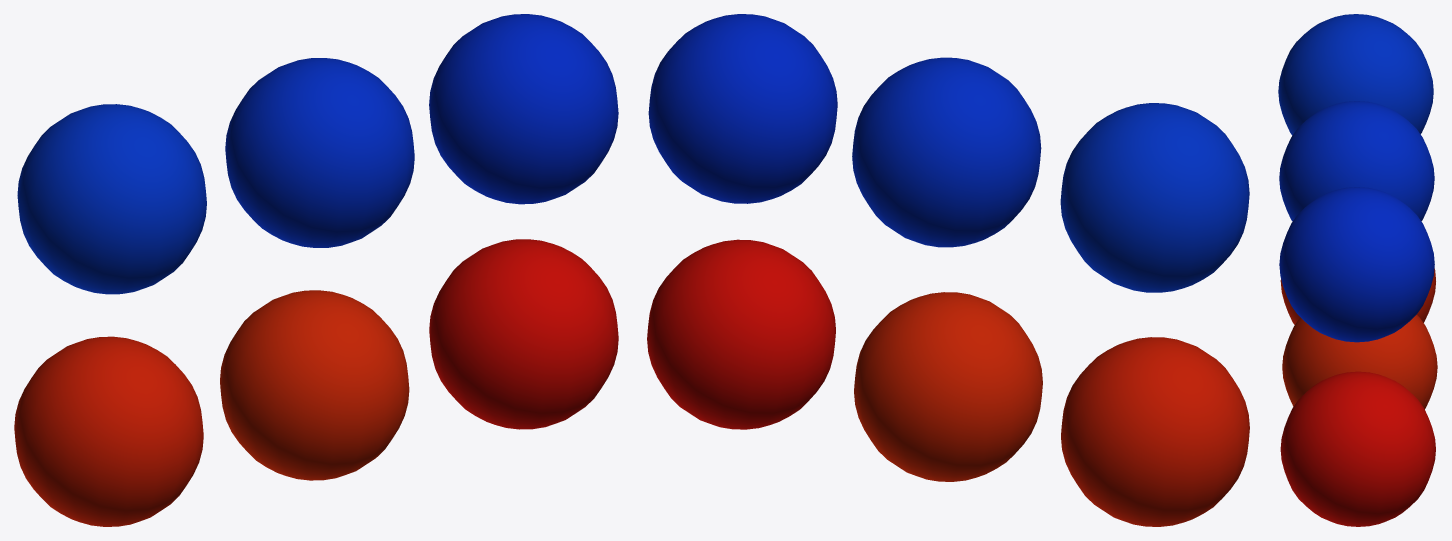
The model's file is simple_011_Blinn_Material.dae.
3 renders of one model, left to right at view 1: azimuth 30°, elevation 25°; view 2: azimuth 150°, elevation 25°; view 3: azimuth 270°, elevation 25°, orthographic. The views are drawn at different scales.
Parts seen in each view (by area): view 1: pSphere5, pSphere1, pSphere4, pSphere2, pSphere6, pSphere3; view 2: pSphere3, pSphere6, pSphere1, pSphere4, pSphere5, pSphere2; view 3: pSphere2, pSphere1, pSphere5, pSphere3, pSphere4, pSphere6.
Boxes of the visible parts, x1,y1,x2,y2 form: pSphere5: (17, 104, 206, 294); pSphere1: (429, 239, 618, 429); pSphere4: (220, 290, 409, 480); pSphere2: (429, 14, 618, 204); pSphere6: (14, 336, 203, 526); pSphere3: (225, 58, 414, 247); pSphere3: (852, 57, 1041, 247); pSphere6: (1061, 337, 1249, 526); pSphere1: (647, 239, 835, 429); pSphere4: (854, 292, 1042, 481); pSphere5: (1060, 103, 1249, 292); pSphere2: (648, 14, 837, 203); pSphere2: (1279, 187, 1434, 342); pSphere1: (1280, 371, 1435, 526); pSphere5: (1278, 14, 1433, 135); pSphere3: (1279, 101, 1434, 221); pSphere4: (1282, 314, 1437, 409); pSphere6: (1280, 268, 1435, 324).
Size of the model in its own units: 7.03 by 4.75 by 2.05.
